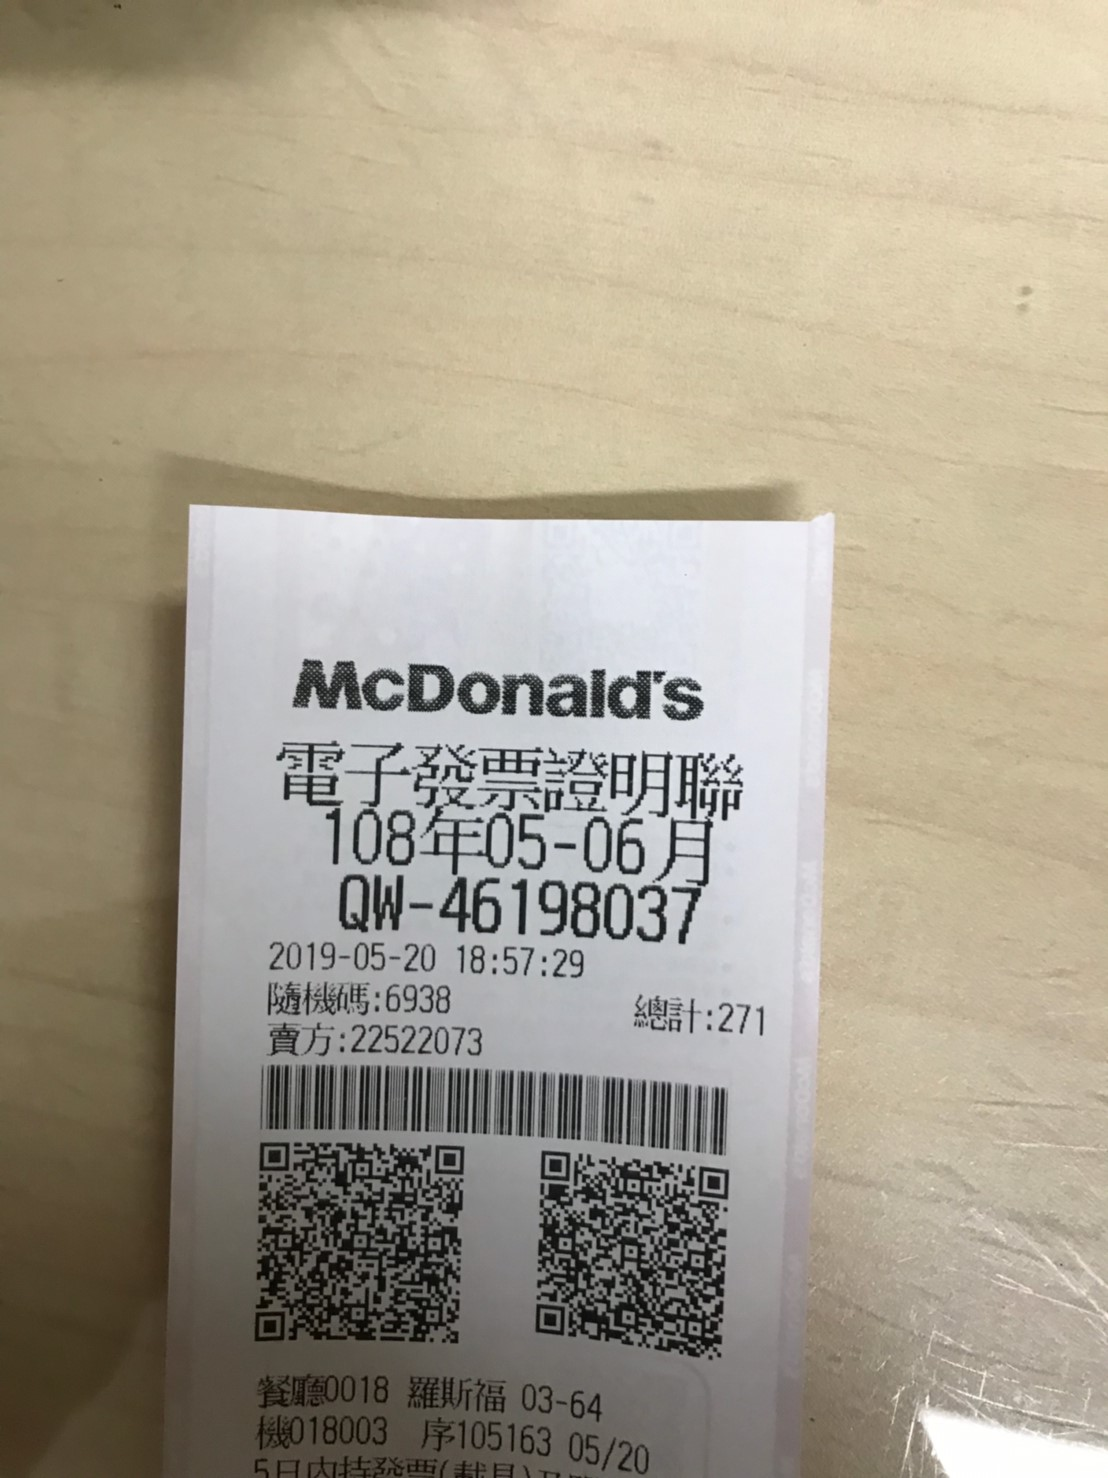Date_New: (324, 806, 713, 893)
Number_New: (440, 871, 702, 952)
